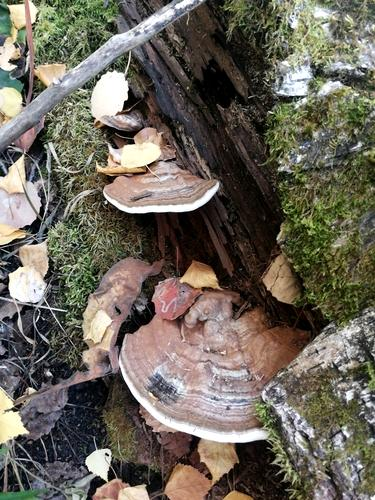Ganoderma - Fruit Body: (107, 304, 325, 448), (97, 157, 221, 218)
